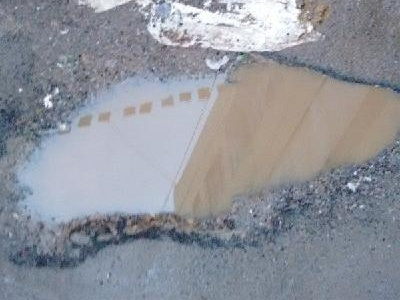pothole: (4, 47, 400, 272)
